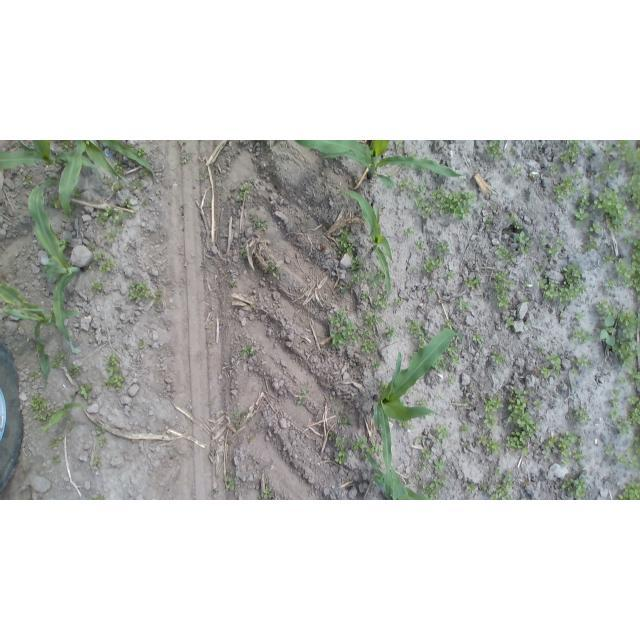Maize: (374, 329, 463, 500), (29, 179, 83, 342), (0, 284, 80, 389), (295, 140, 464, 186), (61, 140, 156, 218), (337, 190, 392, 296), (369, 453, 423, 500), (41, 392, 91, 433), (1, 140, 54, 164)
Weeds: (596, 301, 640, 363), (507, 387, 537, 437), (595, 187, 628, 231), (432, 188, 477, 219), (545, 431, 584, 463), (559, 262, 587, 304), (327, 308, 355, 345), (616, 251, 640, 290), (493, 270, 513, 308), (622, 168, 640, 209), (562, 474, 590, 498), (505, 431, 529, 458), (419, 475, 446, 499), (489, 476, 513, 501), (576, 183, 591, 220), (618, 143, 640, 167), (601, 312, 616, 346), (554, 178, 576, 201), (616, 479, 640, 500), (537, 278, 559, 300), (408, 322, 426, 348), (104, 367, 124, 390), (338, 228, 355, 255), (424, 254, 448, 272), (130, 279, 149, 301), (482, 395, 505, 413), (333, 438, 347, 465), (617, 452, 640, 468), (349, 434, 366, 454), (571, 328, 593, 342), (250, 214, 268, 231), (52, 351, 68, 369), (30, 394, 46, 411), (618, 419, 636, 434), (363, 338, 378, 355), (519, 232, 531, 253), (628, 406, 640, 427), (604, 160, 619, 176), (370, 271, 385, 287), (484, 415, 500, 430), (628, 366, 640, 386), (237, 183, 251, 200), (486, 142, 502, 156), (583, 236, 597, 252), (372, 294, 388, 308), (574, 408, 588, 424), (230, 410, 244, 426), (433, 242, 450, 255), (485, 440, 502, 453), (629, 211, 640, 231), (415, 194, 430, 208), (79, 386, 94, 400), (101, 260, 116, 273), (368, 442, 382, 455), (433, 459, 446, 473), (399, 176, 414, 188), (497, 246, 512, 258), (549, 355, 561, 370), (451, 357, 464, 370), (352, 256, 363, 271), (225, 477, 236, 492), (469, 275, 480, 289), (598, 301, 613, 311), (448, 343, 460, 355), (602, 145, 615, 156), (97, 213, 108, 226), (630, 234, 640, 248), (577, 355, 591, 365), (633, 434, 640, 454), (263, 485, 273, 499), (91, 281, 105, 291), (33, 413, 50, 421), (561, 154, 576, 163), (58, 140, 73, 149), (571, 142, 582, 154), (492, 352, 504, 363), (438, 426, 449, 438), (547, 247, 561, 256), (386, 324, 395, 338), (473, 331, 484, 342), (604, 277, 615, 288), (50, 196, 60, 208), (505, 316, 515, 328), (94, 250, 106, 260), (418, 237, 427, 250), (51, 437, 64, 446), (241, 345, 252, 355), (69, 367, 79, 378), (106, 231, 116, 242), (414, 184, 426, 193), (436, 359, 445, 371), (628, 396, 640, 405), (542, 366, 550, 379), (298, 391, 306, 404), (534, 400, 544, 410), (104, 206, 114, 216), (114, 161, 123, 172), (591, 223, 600, 234), (577, 310, 586, 321), (351, 275, 362, 284), (109, 356, 120, 365), (523, 277, 531, 289), (378, 379, 386, 391), (540, 231, 546, 246), (25, 175, 34, 185), (446, 269, 456, 278), (606, 445, 615, 455), (509, 214, 520, 222), (367, 315, 378, 323), (60, 239, 77, 244), (487, 216, 496, 225), (610, 398, 619, 407), (182, 155, 191, 164), (402, 227, 412, 235), (422, 450, 432, 458), (398, 420, 408, 428), (98, 438, 106, 448), (109, 215, 119, 223), (72, 188, 82, 196), (515, 165, 522, 176), (605, 256, 616, 263), (535, 345, 546, 352), (114, 184, 123, 192), (430, 285, 439, 293), (460, 300, 469, 308), (551, 164, 559, 173), (514, 221, 523, 229), (420, 209, 429, 217), (241, 248, 247, 260), (571, 367, 579, 376), (611, 411, 619, 420), (478, 435, 487, 443), (467, 483, 475, 492), (96, 427, 105, 435), (119, 209, 124, 223), (343, 419, 354, 425), (68, 423, 76, 431), (394, 298, 403, 305), (492, 469, 501, 476), (448, 374, 454, 384), (94, 455, 100, 465), (123, 201, 131, 208), (107, 176, 114, 184), (576, 173, 584, 180), (556, 238, 564, 245), (619, 376, 626, 384), (133, 181, 142, 187), (462, 399, 471, 405), (92, 496, 105, 500), (598, 177, 606, 183), (536, 263, 542, 271), (614, 390, 622, 396), (268, 265, 275, 271), (139, 343, 145, 350), (54, 456, 61, 462), (156, 292, 163, 298), (155, 299, 162, 305), (129, 212, 136, 218), (461, 425, 469, 430), (417, 400, 425, 405), (328, 433, 333, 441), (436, 396, 444, 401), (408, 424, 416, 429), (375, 361, 381, 367), (139, 148, 144, 155), (341, 286, 346, 293), (418, 436, 425, 441), (143, 201, 148, 208), (423, 462, 428, 469), (530, 175, 536, 180), (229, 282, 235, 287), (31, 372, 38, 376), (144, 170, 149, 175), (469, 382, 474, 387)
